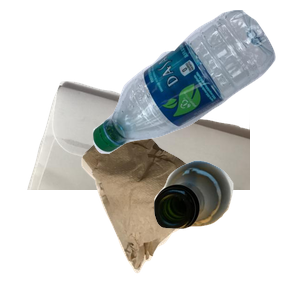glass: (151, 158, 300, 300)
paper: (25, 79, 265, 259)
plastic: (90, 10, 300, 156)
trash: (79, 123, 281, 300)
